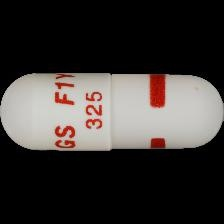0173-0824: (0, 0, 224, 224)
